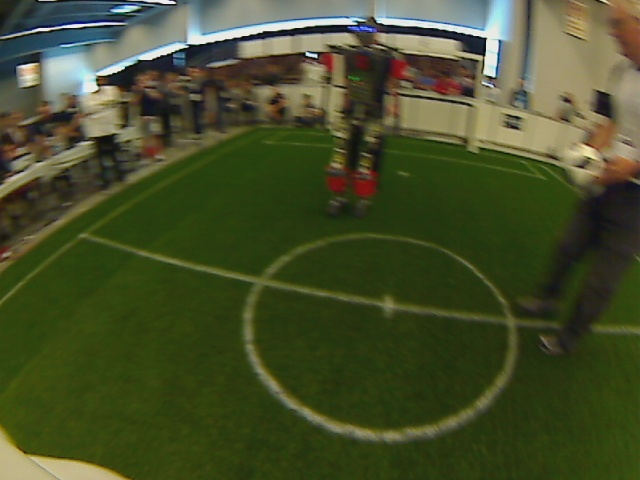ball: (559, 142, 604, 192)
